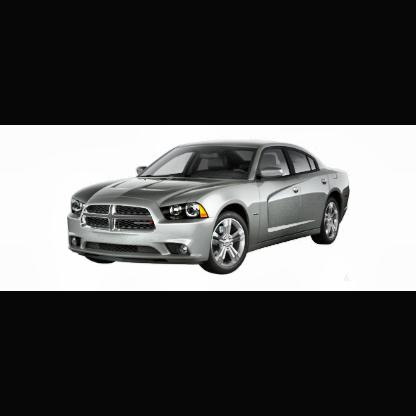Dodge Charger Sedan 2012: (68, 141, 353, 278)
